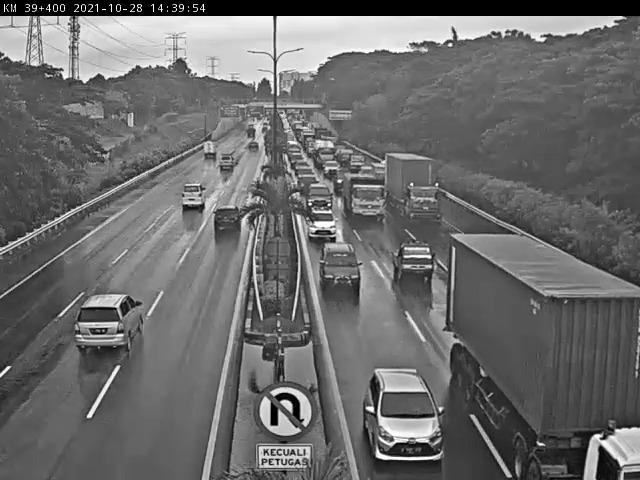big truck: (449, 234, 640, 480), (387, 154, 442, 218), (340, 172, 386, 216)
car: (362, 366, 448, 461), (72, 293, 142, 349), (320, 242, 361, 286), (392, 242, 434, 278), (308, 208, 336, 237), (179, 183, 206, 212), (214, 206, 242, 233), (306, 184, 331, 211), (297, 172, 318, 193), (218, 152, 236, 172)
